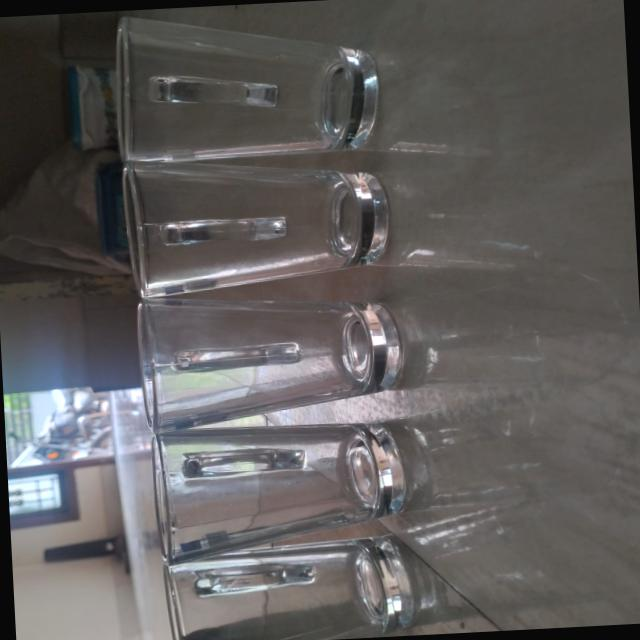glass-VX4N: (110, 5, 386, 163), (119, 154, 388, 298), (136, 290, 404, 432), (149, 424, 392, 544), (153, 548, 411, 640)
